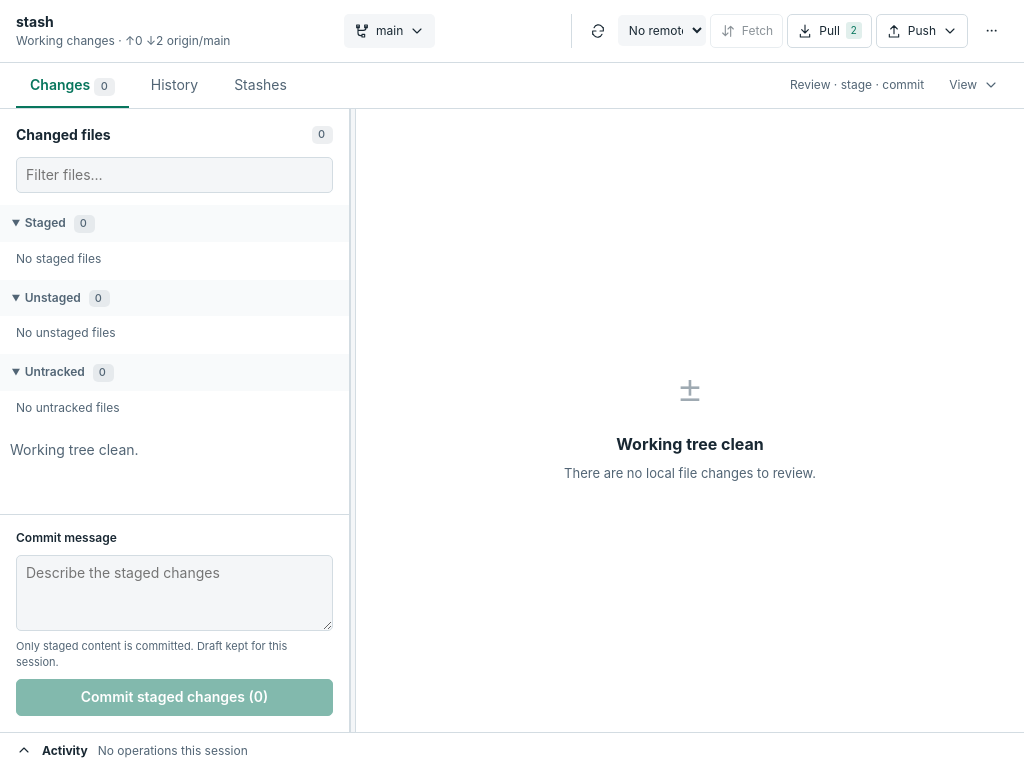
stash workspace (mocked IPC) › requires explicit opt-in before an untracked-only stash can be created
The width and height of the screenshot is (1024, 768).
Expected: the button named "Refresh" is shown, [582,15,614,47]
Click the button "Stashes": {"x": 260, "y": 85} [220,63,301,107]
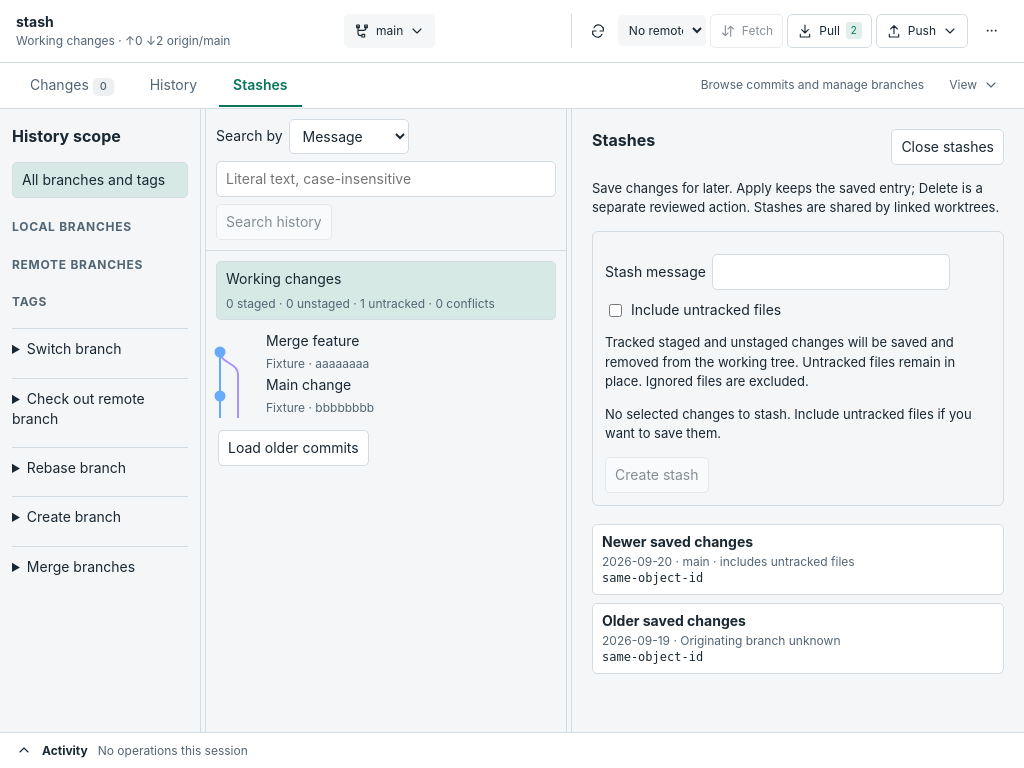
Now the button "Newer saved changes" is shown, box [592,524,1004,595]
In the field labelled "Stash message": {"x": 831, "y": 272} [712,254,950,290], type "Untracked choice"
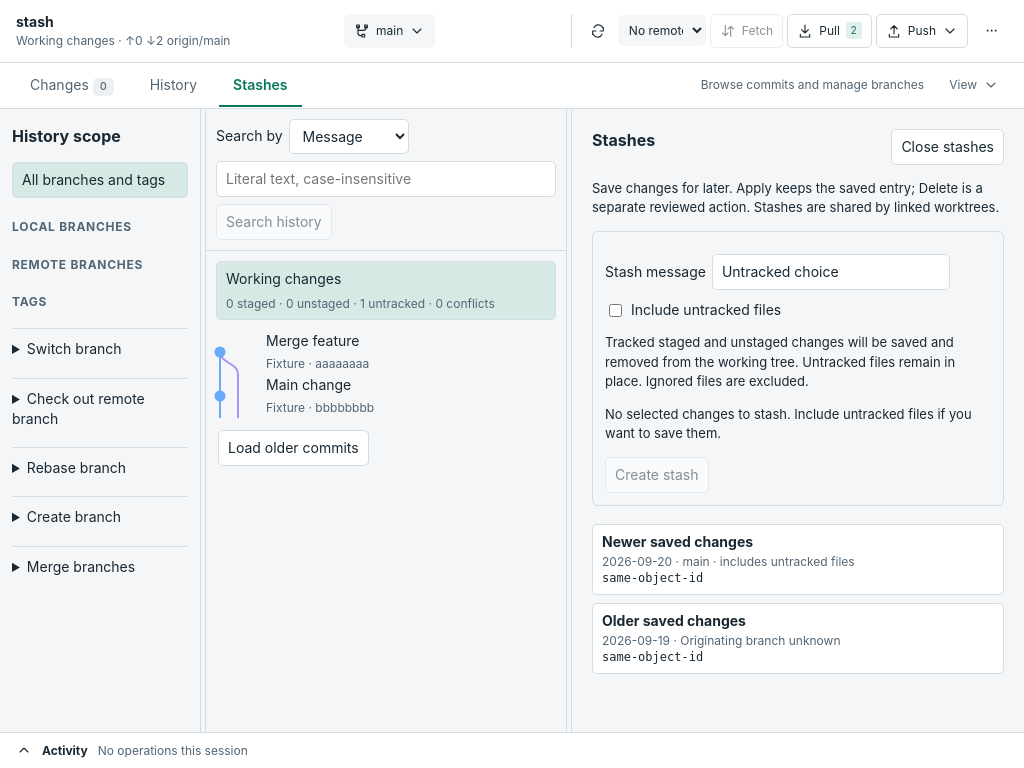
Now the button "Create stash" is disabled, box [605,457,708,493]
Click the checkbox labelled "Include untracked files": {"x": 616, "y": 310} [609,304,622,317]
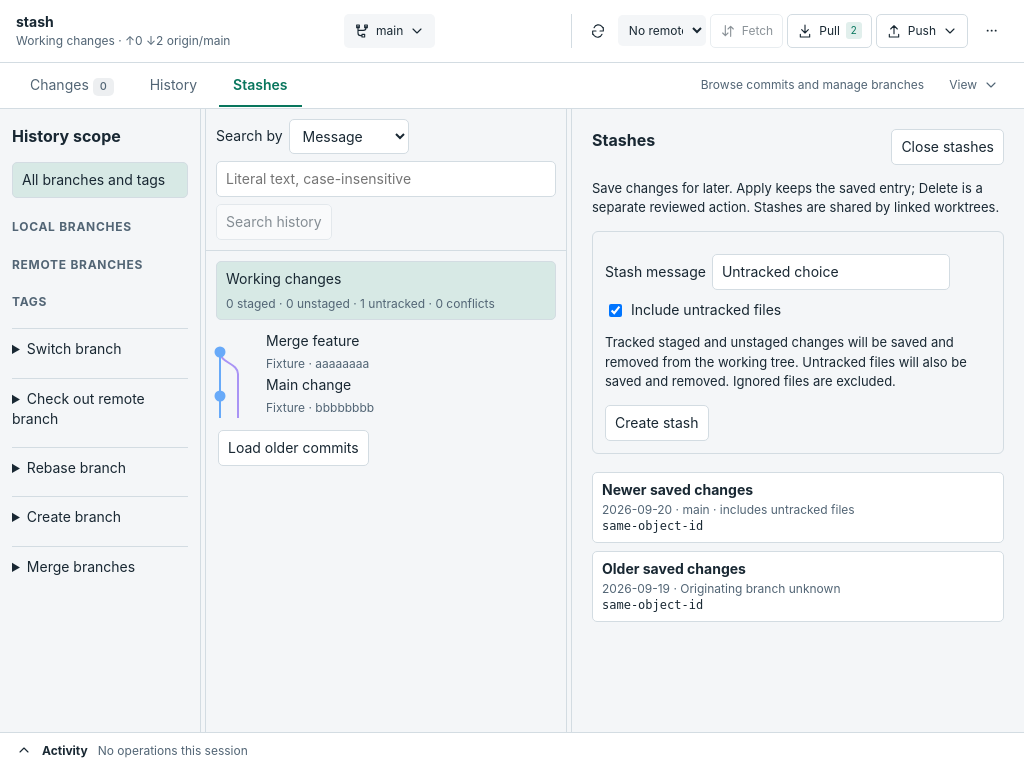
Click the button "Create stash": {"x": 657, "y": 423} [605,405,708,441]
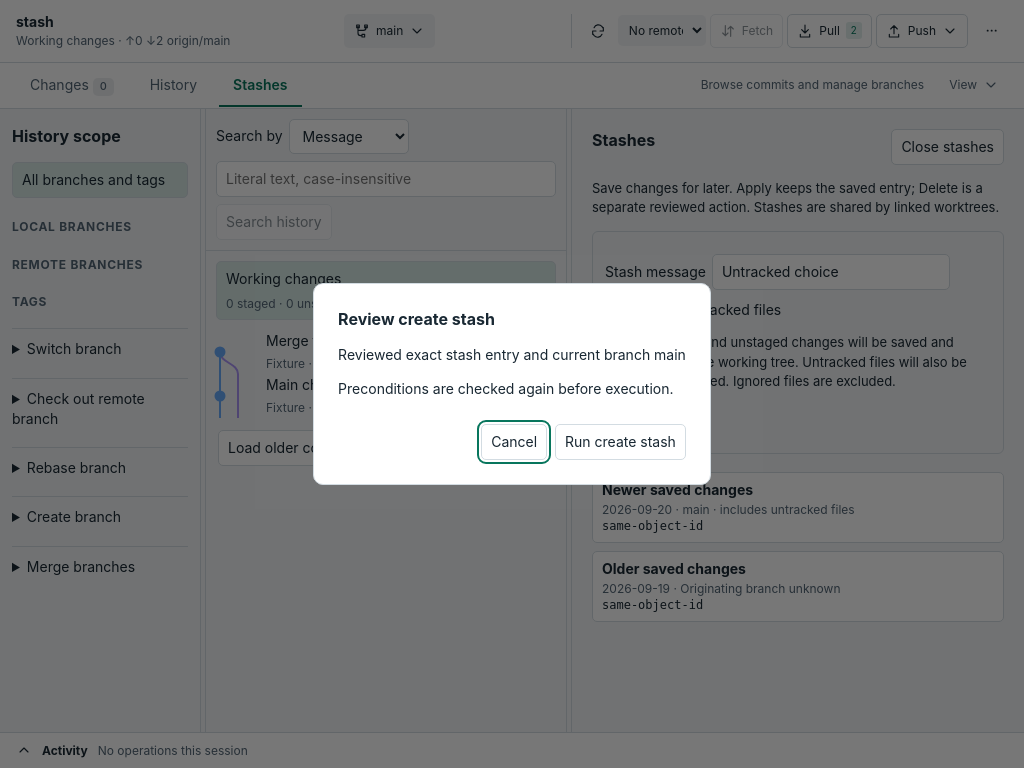
Now the dialog is shown, box [313,283,711,485]
